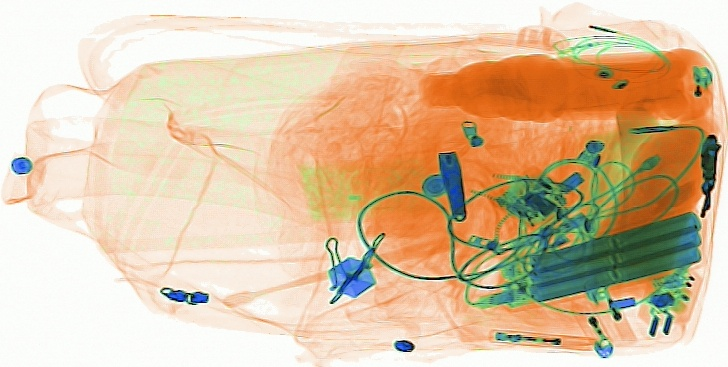lighter: (581, 274, 639, 346), (486, 325, 600, 352), (568, 301, 614, 359), (686, 62, 713, 138)
powerbank: (493, 204, 705, 305)
